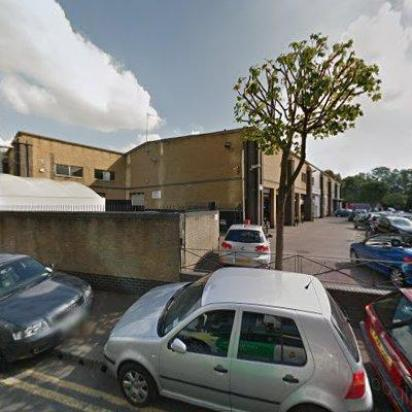stationary-car-offstreet: (350, 232, 412, 288), (219, 222, 275, 268), (370, 215, 412, 247), (350, 211, 376, 232), (333, 207, 352, 219)
stationary-car-onstreet: (101, 266, 374, 412), (0, 251, 96, 373), (360, 284, 412, 412)
